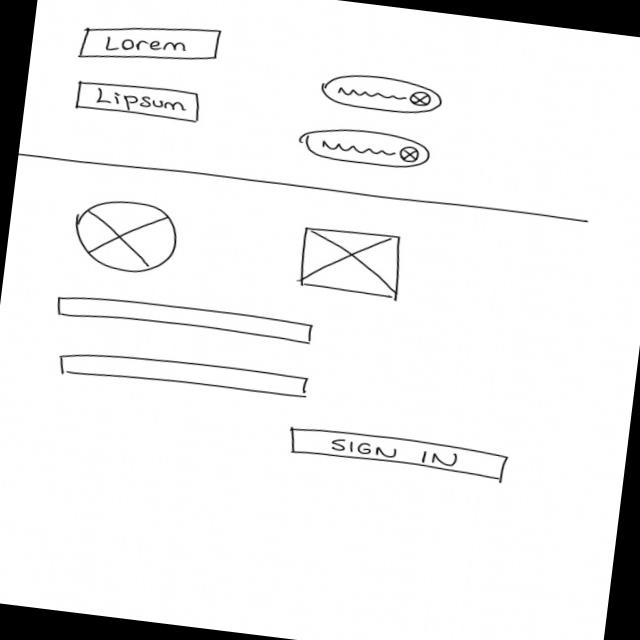button: (285, 424, 511, 484), (77, 12, 225, 76), (74, 77, 204, 126)
image: (70, 195, 184, 280), (298, 223, 409, 301)
input: (58, 345, 311, 407), (54, 290, 317, 349)
